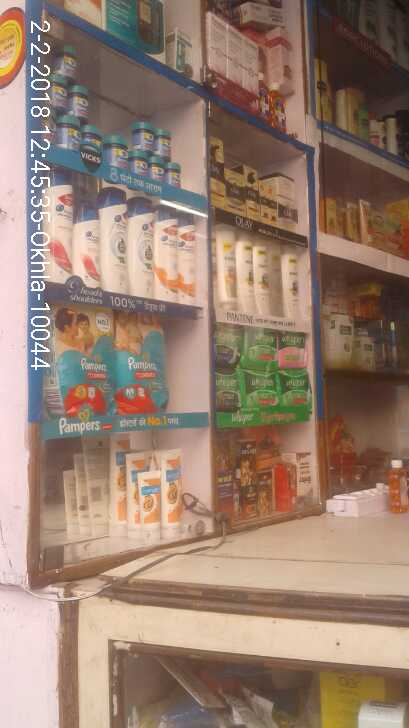vicks: (47, 41, 183, 188)
